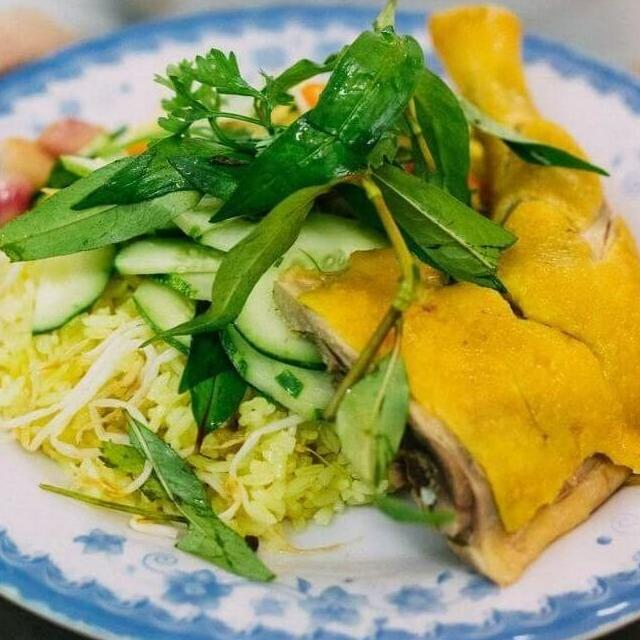com: (60, 334, 384, 548), (0, 254, 130, 454)
com ga: (0, 37, 640, 640)
rau ram: (0, 0, 524, 294), (100, 401, 279, 588), (331, 303, 463, 530), (136, 289, 257, 466), (433, 73, 618, 182)
thit ga: (268, 239, 640, 592), (421, 0, 640, 437)
